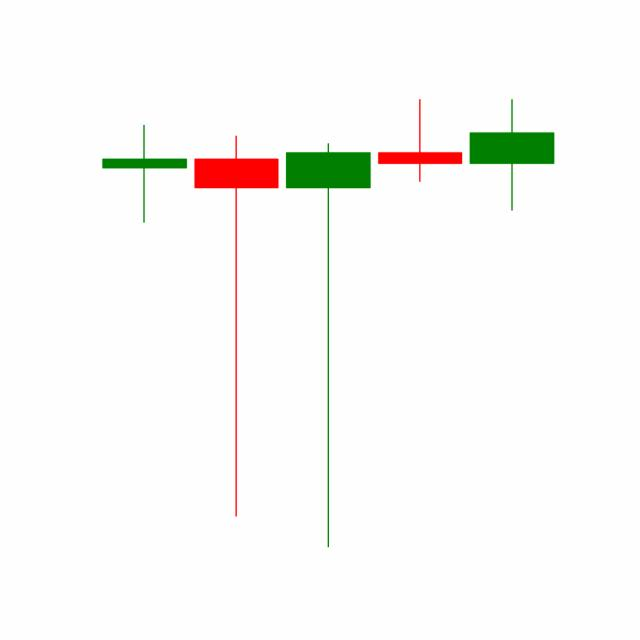Spinning Top: (373, 98, 467, 182)
